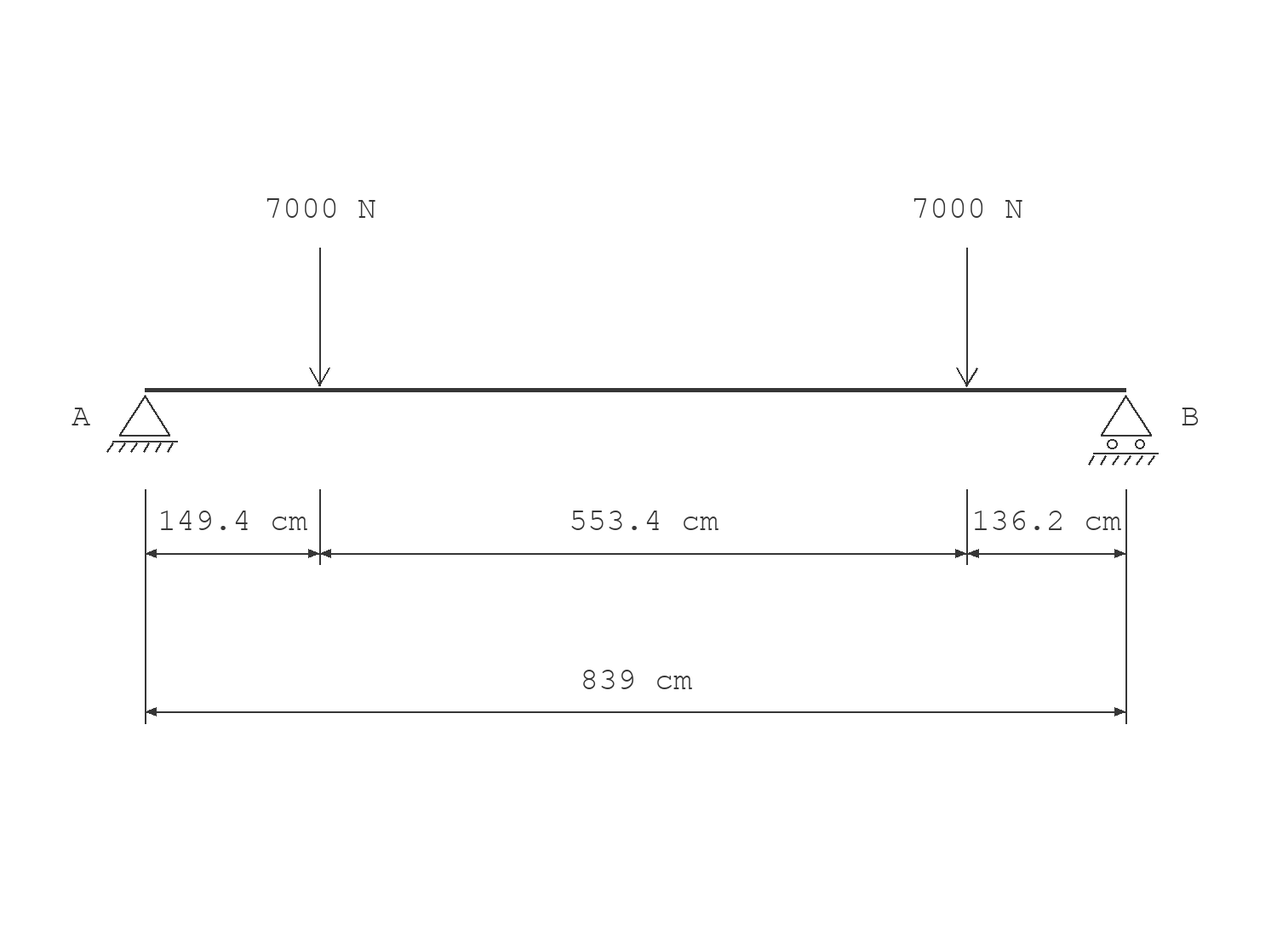pin_support: (106, 395, 178, 453)
point_load: (956, 248, 978, 387), (309, 248, 330, 386)
roller_support: (1088, 395, 1159, 465)
